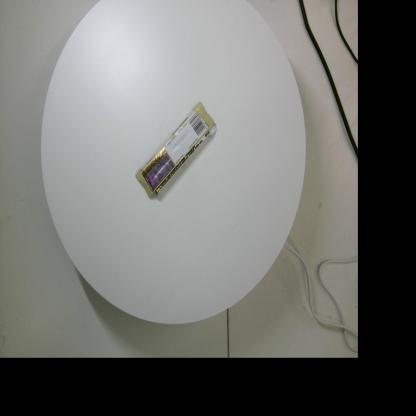Chocolate: (135, 101, 217, 198)
